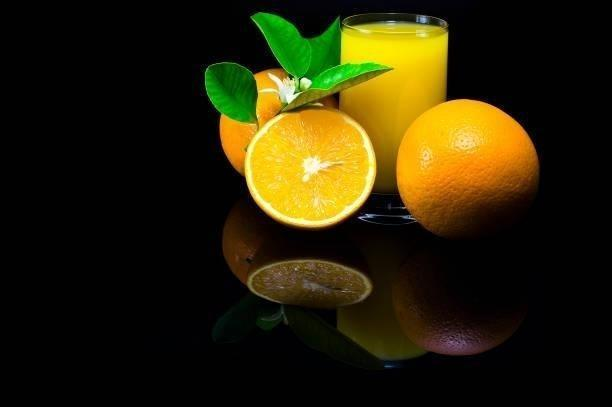glass-normal: (337, 11, 450, 225)
